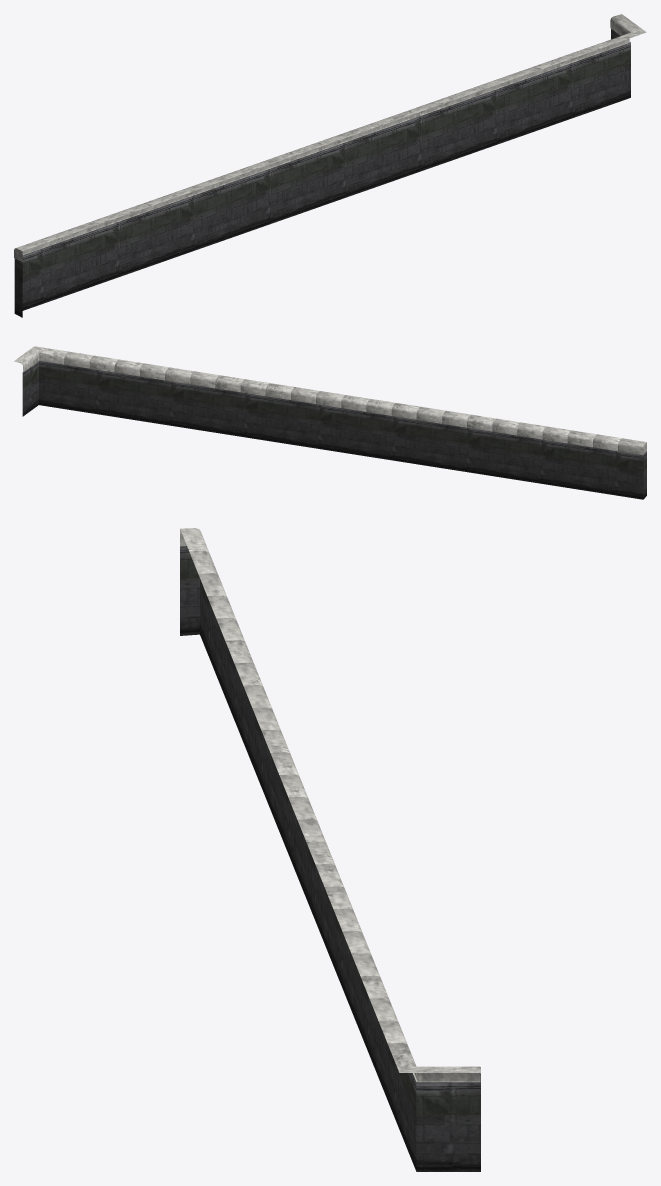
The model's file is SM_Banchina_Angolo_MoloItalia_LOD1.fbx.
3 views of the same model, one above another, from view 1: azimuth 30°, elevation 25°; view 2: azimuth 150°, elevation 25°; view 3: azimuth 270°, elevation 25° (orthographic). The views are drawn at different scales.
Parts seen in each view (by area): view 1: SM_Banchina_Angolo_MoloItalia_LOD1; view 2: SM_Banchina_Angolo_MoloItalia_LOD1; view 3: SM_Banchina_Angolo_MoloItalia_LOD1.
Part boxes in pixels (x1=…): SM_Banchina_Angolo_MoloItalia_LOD1: x1=14, y1=14, x2=646, y2=317; SM_Banchina_Angolo_MoloItalia_LOD1: x1=14, y1=346, x2=646, y2=499; SM_Banchina_Angolo_MoloItalia_LOD1: x1=180, y1=528, x2=480, y2=1171.
Size of the model in its own units: 3271 by 762 by 300.
2 materials, 2 textured.
